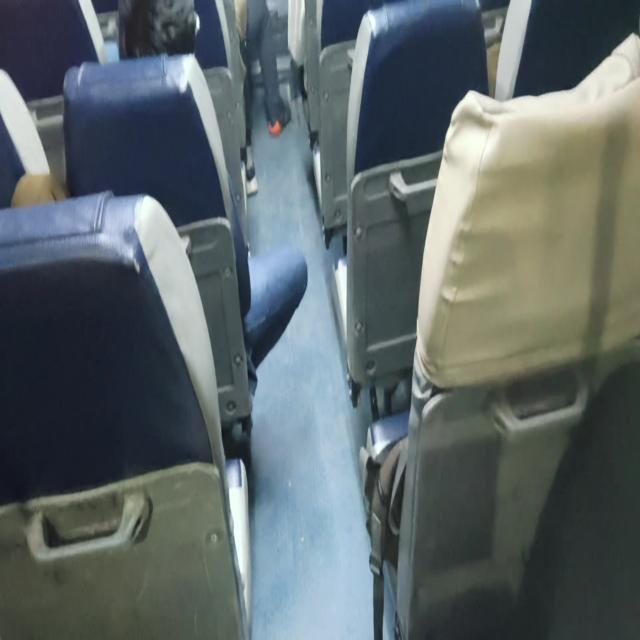person: (1, 1, 638, 638), (1, 2, 307, 636), (360, 28, 639, 638), (517, 359, 639, 638), (234, 0, 292, 140), (10, 171, 68, 208)
